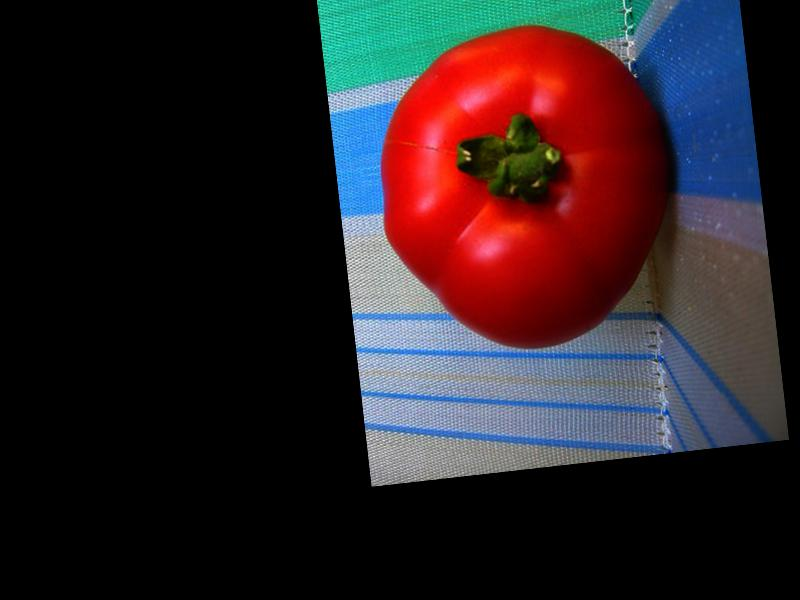Tomato: (363, 11, 688, 361)
